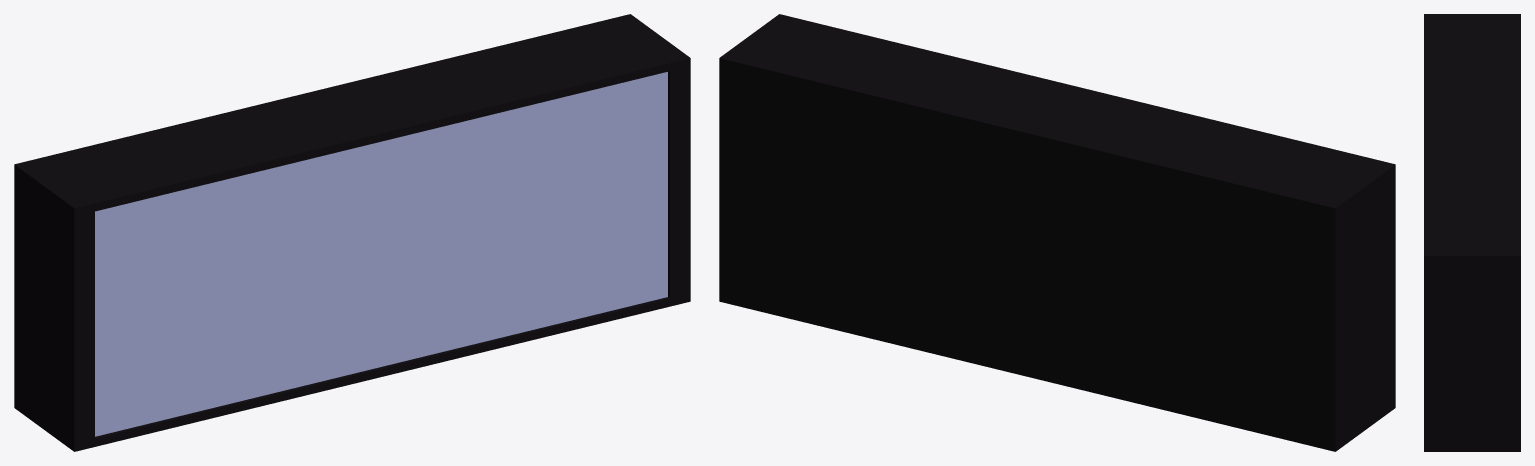
The model's file is WallClock.fbx.
The picture shows the model from 3 angles, left to right: view 1: azimuth 30°, elevation 25°; view 2: azimuth 150°, elevation 25°; view 3: azimuth 270°, elevation 25°; orthographic projection. The views are drawn at different scales.
Visible parts, largest first — view 1: ClockGlass, Clock; view 2: Clock; view 3: Clock.
Part boxes in pixels (x1=…): ClockGlass: x1=95, y1=72, x2=667, y2=436; Clock: x1=14, y1=14, x2=690, y2=451; Clock: x1=719, y1=14, x2=1395, y2=451; Clock: x1=1424, y1=14, x2=1520, y2=451.
Size of the model in its own units: 166 by 62.84 by 28.13.
